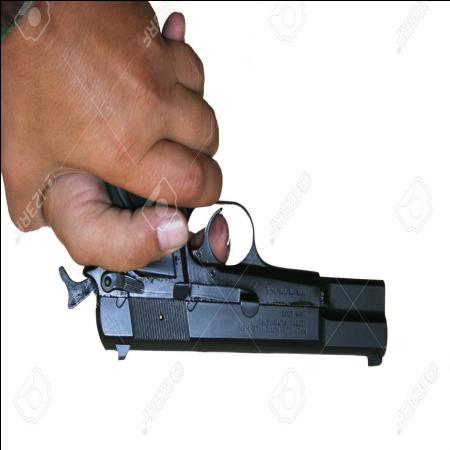Pistol: (58, 163, 388, 366)
